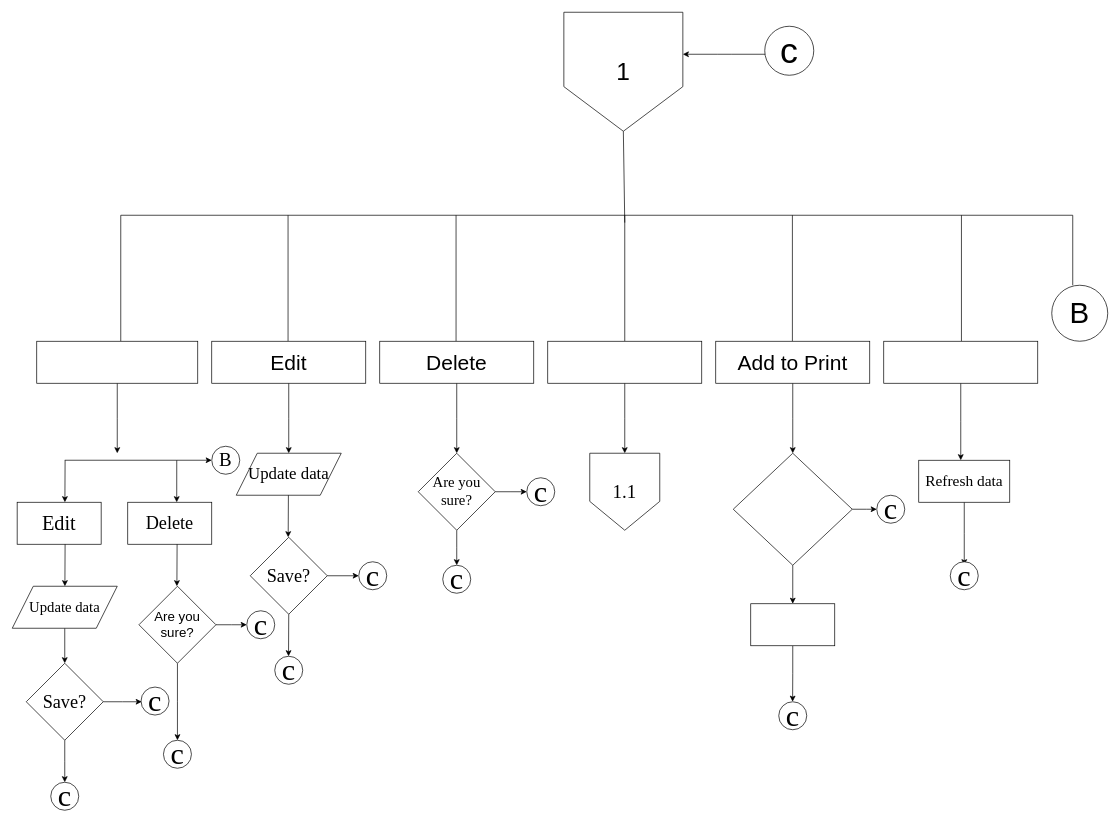
Image size: 1120x827. Some labels were removed from this diagram. Here are the shapes that lost their labels. From the top down, the centre of each, then its label:
At pixel 117 362: "Personal Data".
At pixel 624 362: "View".
At pixel 960 362: "Refresh".
At pixel 792 509: "Add print attemp =8?".
At pixel 792 624: "Print File".
